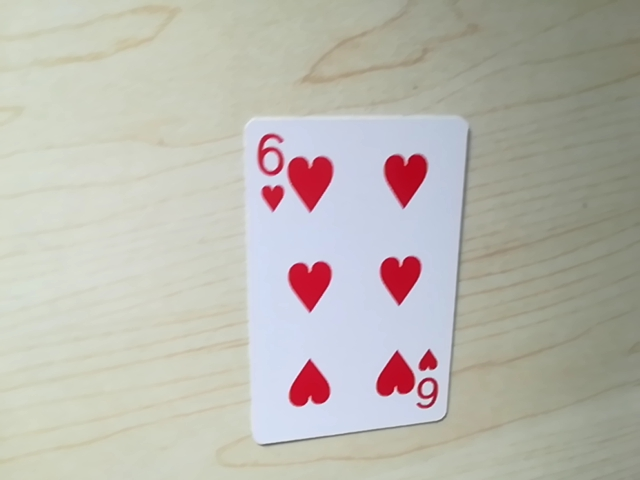hx 6: (251, 123, 289, 192), (409, 355, 442, 416)
